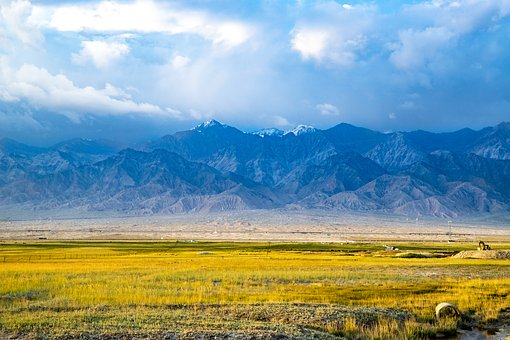field: (5, 242, 510, 326)
mountain: (16, 122, 500, 229)
sky: (4, 3, 507, 128)
